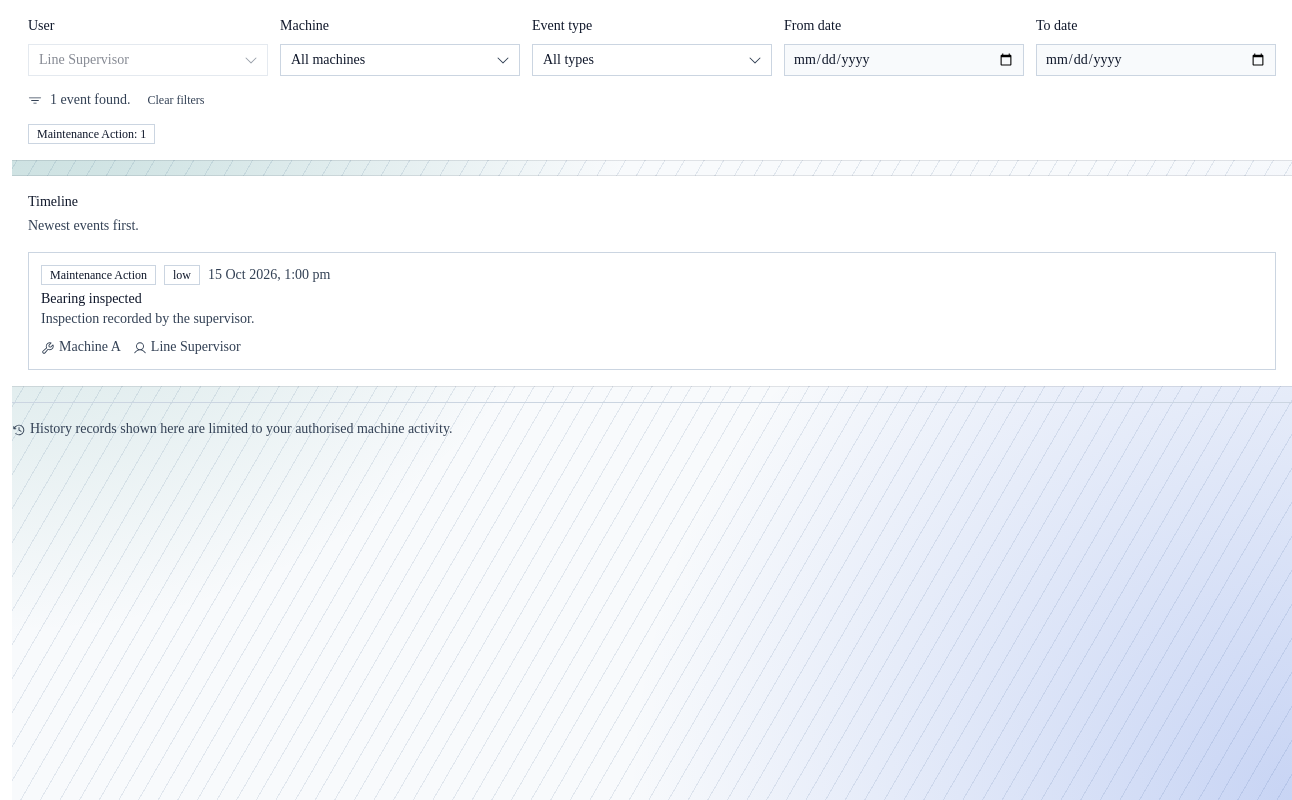
Test: history explains a reversed date range without requesting or presenting it as a valid result
Expected: the text "Bearing inspected" is shown, left=41, top=291, right=142, bottom=306
Type "2026-10-15" into the date field labelled "From date" at [904, 60], box left=784, top=44, right=1024, bottom=76
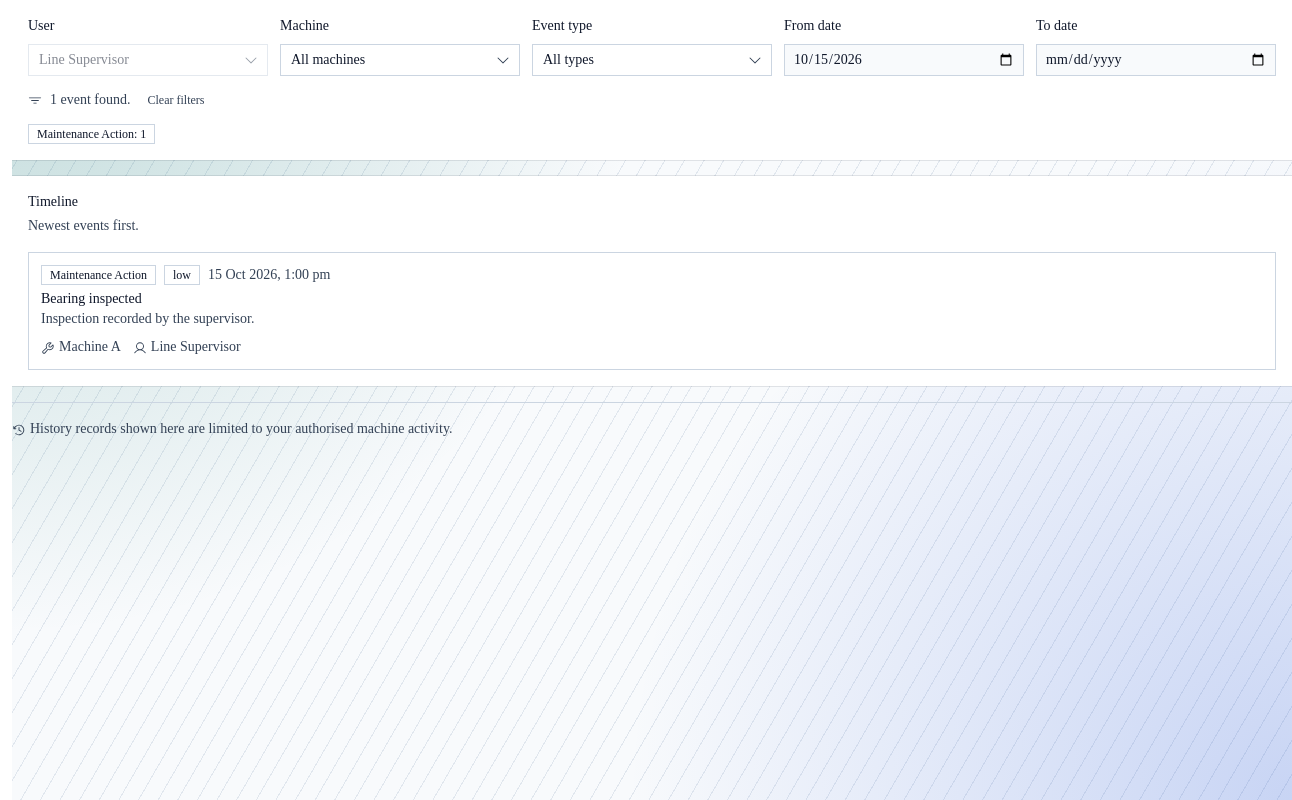
Expected: the text "1 event found." is shown, left=50, top=90, right=130, bottom=110
Type "2026-10-01" into the date field labelled "To date" at [1156, 60], box left=1036, top=44, right=1276, bottom=76
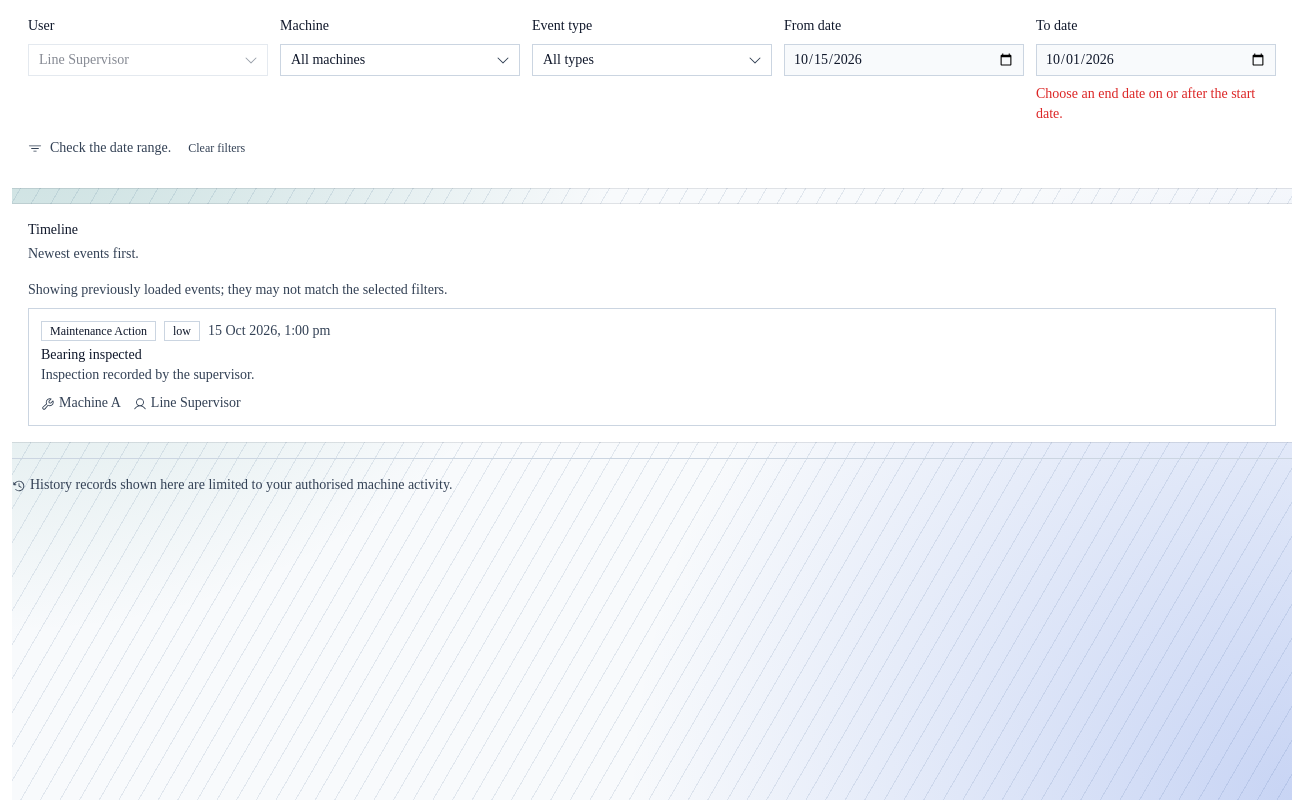
Now the text "Choose an end date on or after the start date." is shown, box left=1036, top=84, right=1276, bottom=124
Now the text "1 event found." is gone
